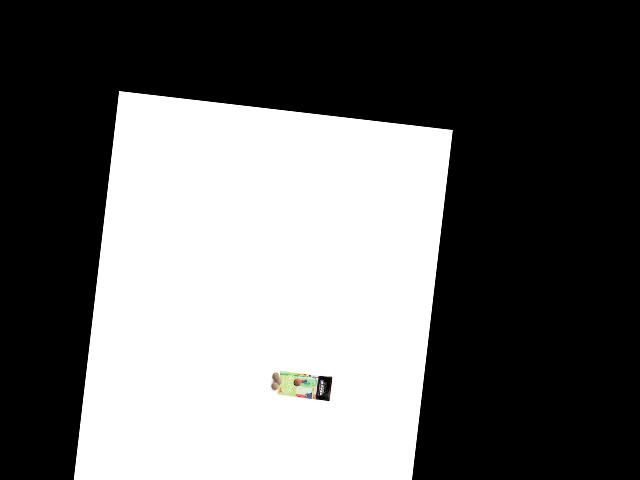chocolate: (275, 364, 335, 404)
